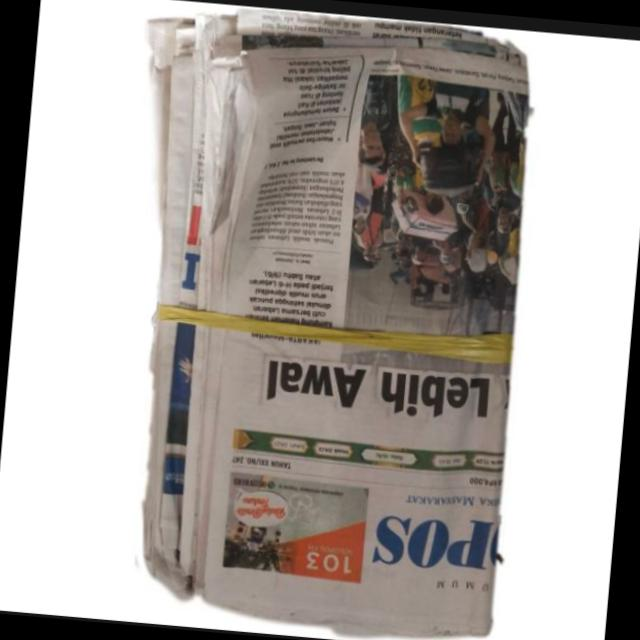Koran: (94, 0, 545, 640)
